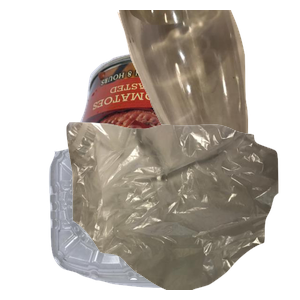glass: (115, 10, 300, 190)
metal: (62, 47, 300, 227)
plastic: (46, 130, 227, 300)
trash: (64, 120, 300, 300)
